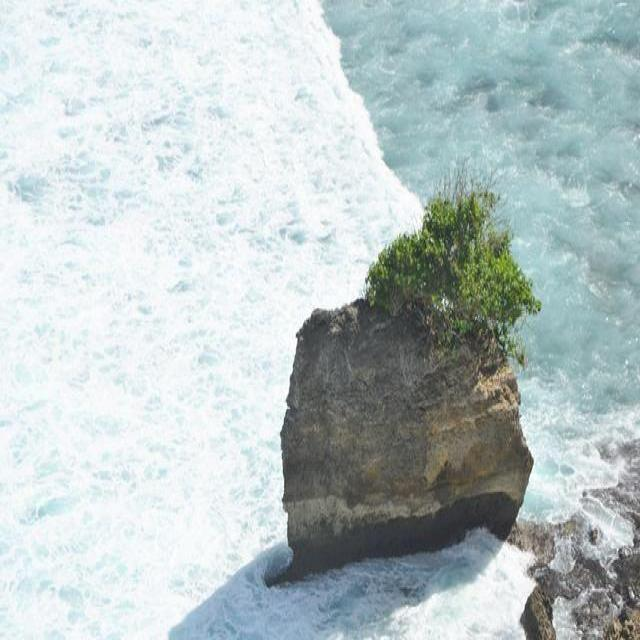reef: (258, 170, 526, 585)
